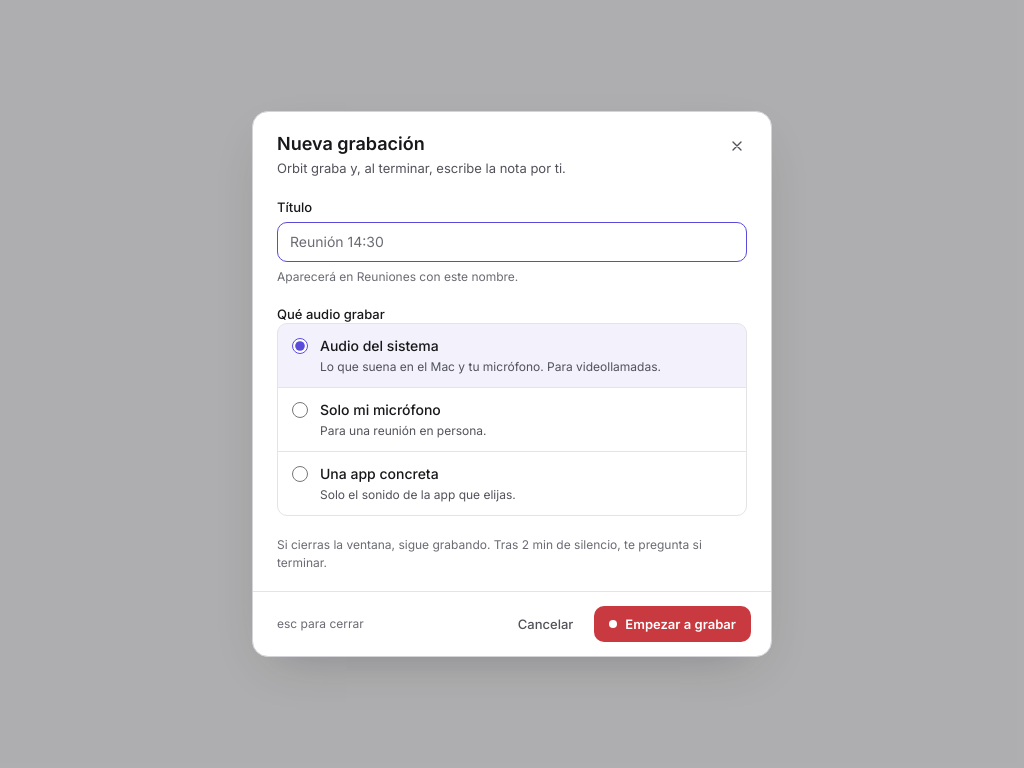
Test case: says when no application plays audio
Step 1. Click the radio button labelled "Una app concreta Solo el sonido de la app que elijas." → (300, 474), box [292,466,308,482]
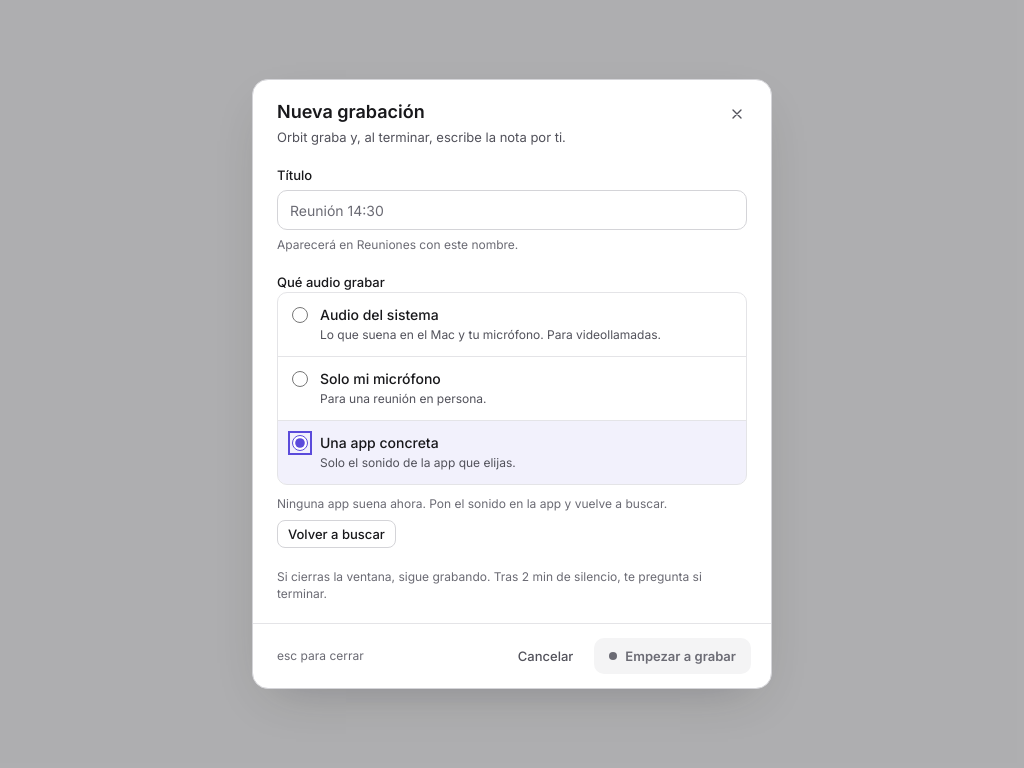
Check: the text "Ninguna app suena ahora. Pon el sonido en la app y vuelve a buscar." is shown, box [277,495,667,512]
Check: the button "Empezar a grabar" is disabled, box [594,638,751,674]
